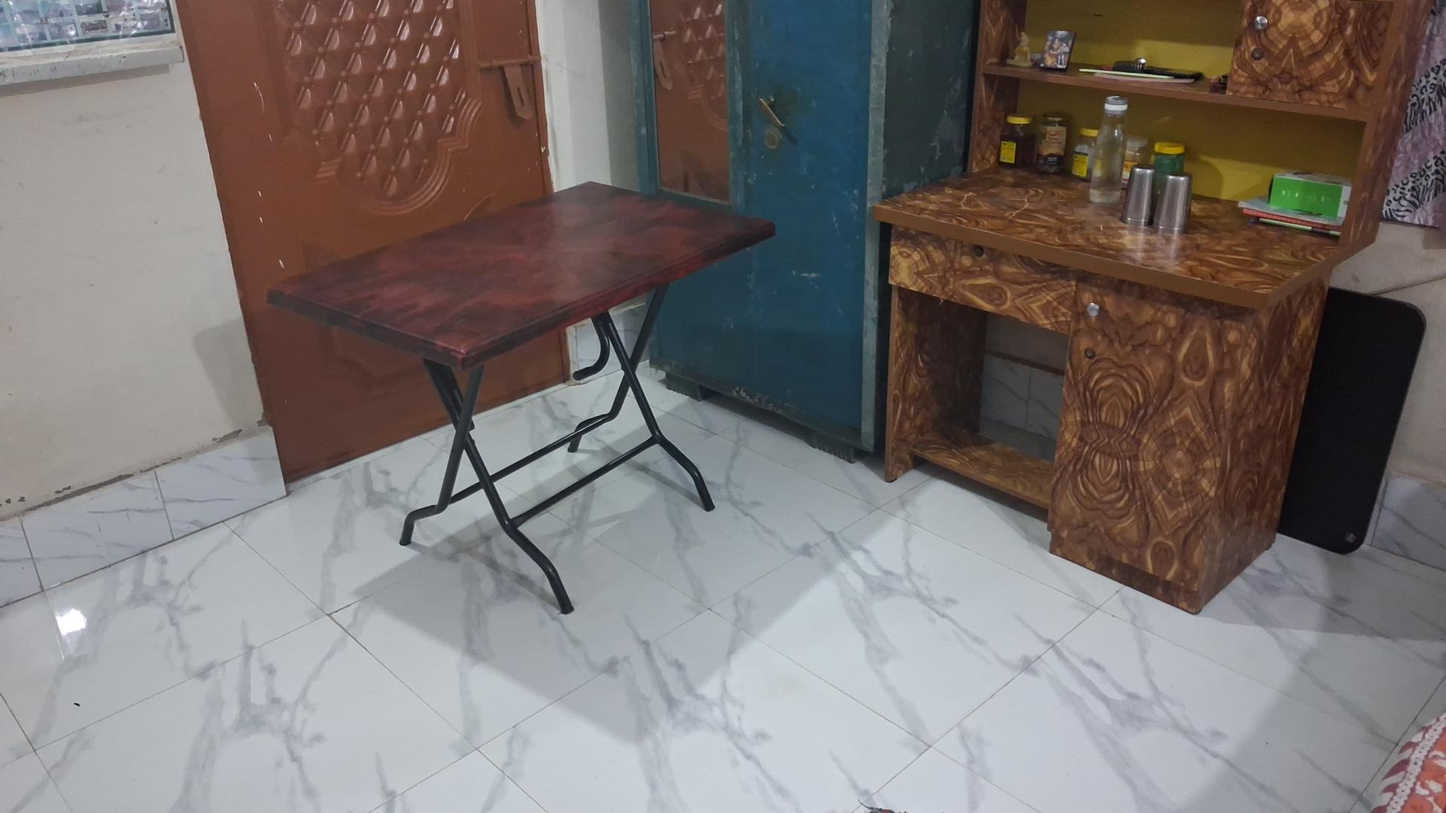Bottle: (1088, 95, 1129, 205)
Box: (1269, 171, 1353, 216)
Glass: (1157, 174, 1192, 234), (1122, 169, 1156, 225)
Jar: (1037, 112, 1068, 175), (1000, 116, 1034, 170)
Table: (271, 182, 774, 610)
